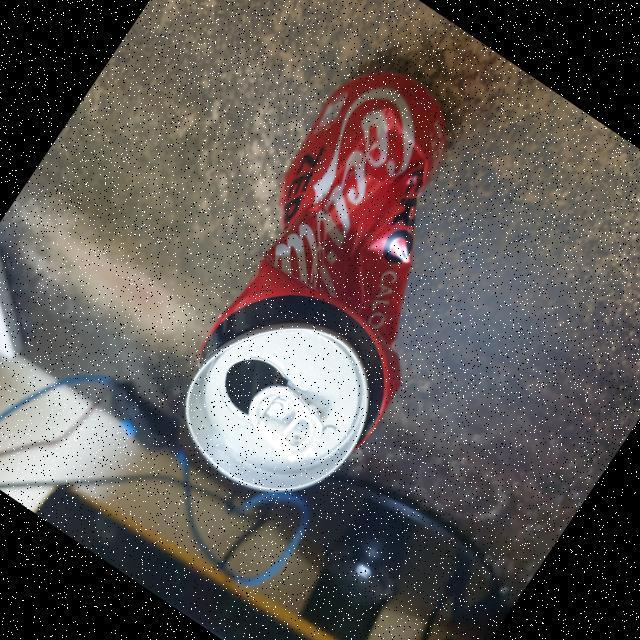can: (97, 27, 568, 560)
